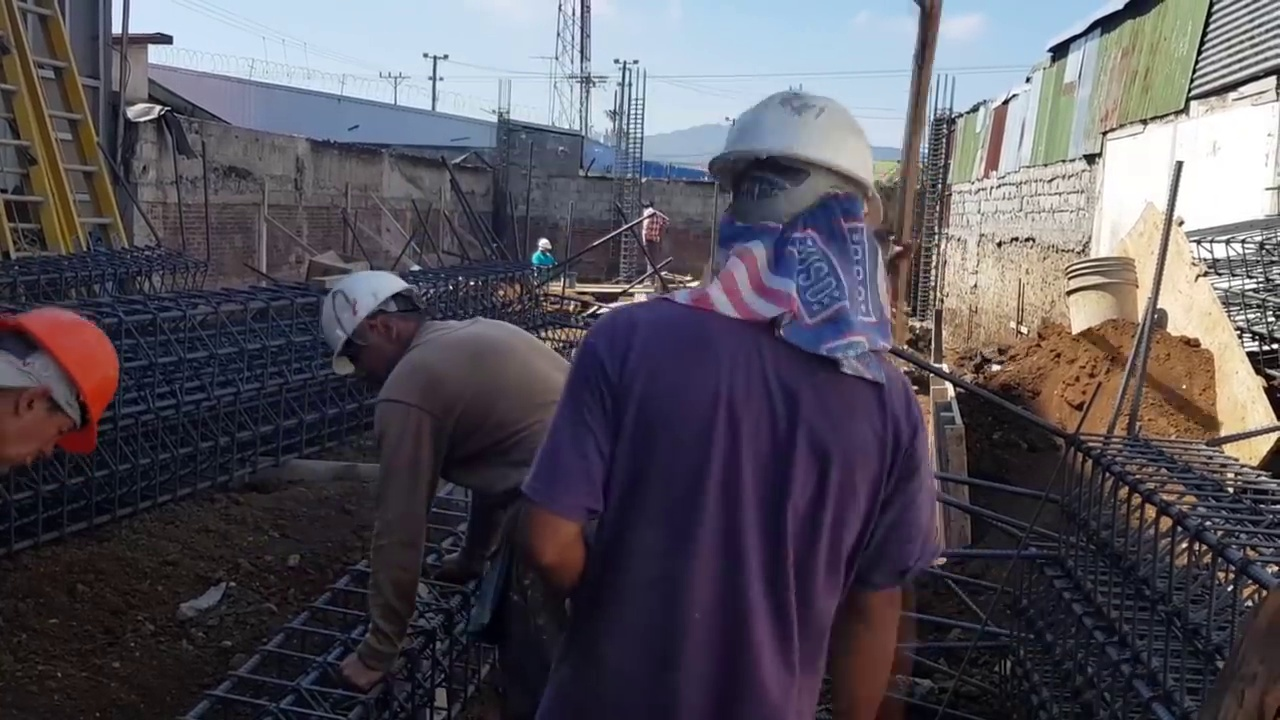helmet: (707, 88, 884, 198), (11, 317, 122, 454), (321, 271, 413, 373), (538, 238, 552, 250)
helmet-off: (640, 201, 655, 212)
helmet-on: (699, 86, 894, 332), (0, 302, 127, 498), (320, 263, 433, 381), (537, 238, 553, 255)
person: (532, 78, 934, 691), (320, 255, 574, 656), (640, 201, 668, 284), (530, 238, 554, 288)
